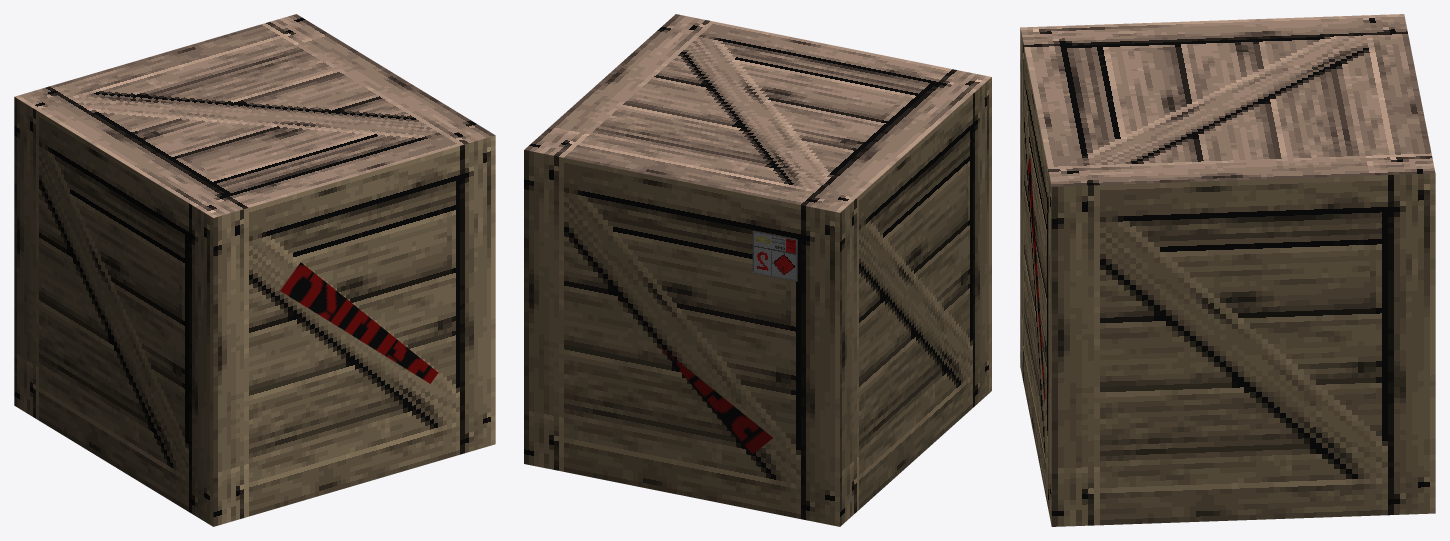
Rendered from primary_083.glb.
The picture shows the model from 3 angles, left to right: view 1: azimuth 30°, elevation 25°; view 2: azimuth 150°, elevation 25°; view 3: azimuth 270°, elevation 25°; orthographic projection. The views are drawn at different scales.
Parts seen in each view (by area): view 1: Object; view 2: Object; view 3: Object.
Boxes of the visible parts, <box> form: Object: <box>14,14,495,526</box>; Object: <box>524,14,991,526</box>; Object: <box>1020,14,1435,526</box>.
Bounding box in the file's own units: 1.22 × 1.12 × 1.24.
7 materials, 7 textured.
